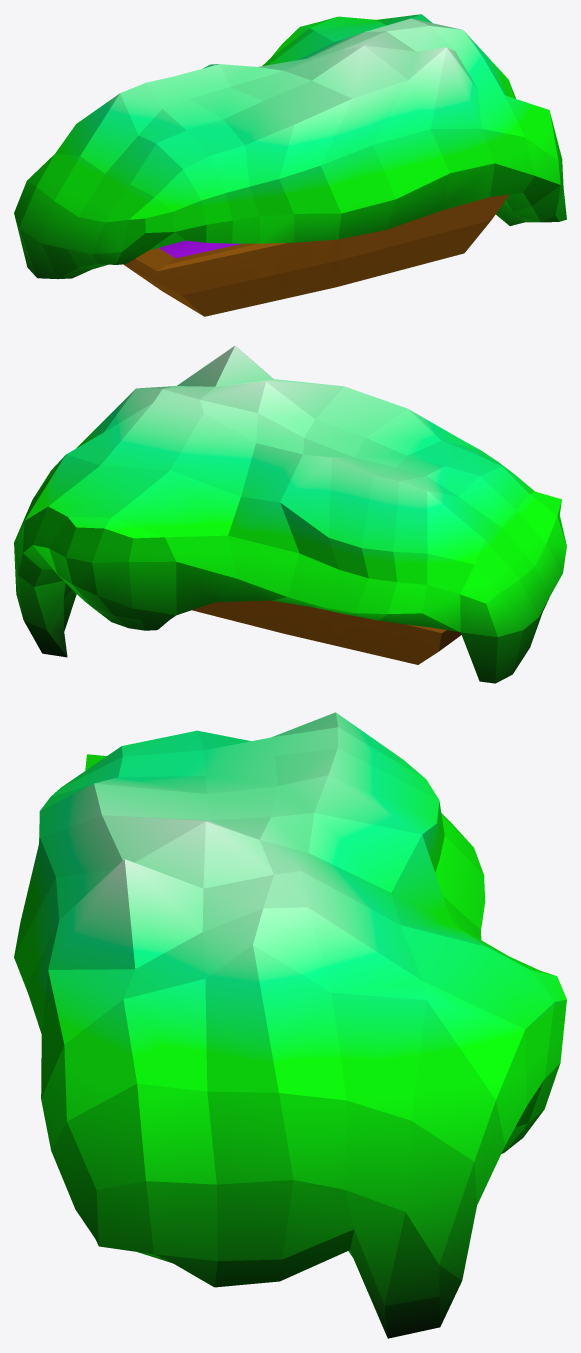
Rendered from Mata_Pared.fbx.
3 views of the same model, one above another, from view 1: azimuth 30°, elevation 25°; view 2: azimuth 150°, elevation 25°; view 3: azimuth 270°, elevation 25° (orthographic). The views are drawn at different scales.
Parts seen in each view (by area): view 1: Mata_Pared.001; view 2: Mata_Pared.001; view 3: Mata_Pared.001.
Part boxes in pixels (box(x1,y1,x2,y2)): Mata_Pared.001: box(14, 14, 566, 316); Mata_Pared.001: box(14, 345, 566, 683); Mata_Pared.001: box(14, 712, 566, 1338).
Size of the model in its own units: 2.74 by 1.39 by 1.72.
Materials: 1 (1 with a texture image).
